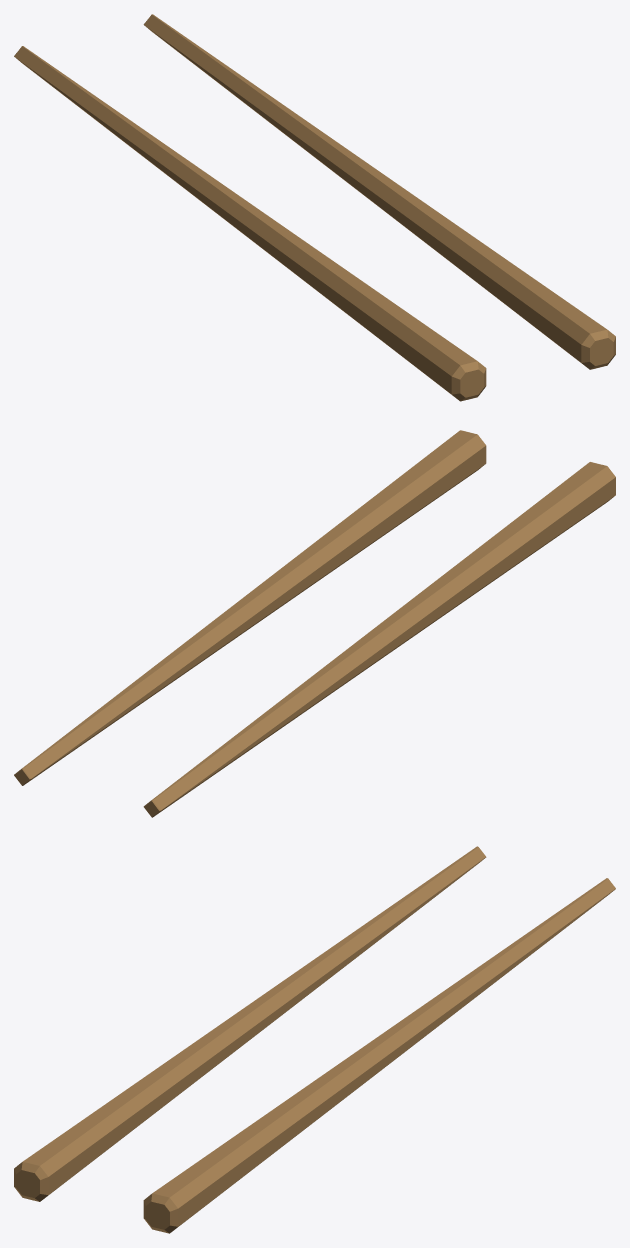
Rendered from AsianSticks_1.fbx.
3 views of the same model, one above another, from view 1: azimuth 30°, elevation 25°; view 2: azimuth 150°, elevation 25°; view 3: azimuth 330°, elevation 25° (orthographic).
Parts seen in each view (by area): view 1: AsianSticks_1; view 2: AsianSticks_1; view 3: AsianSticks_1.
Boxes of the visible parts, x1,y1,x2,y2 form: AsianSticks_1: [14, 14, 615, 401]; AsianSticks_1: [14, 430, 615, 817]; AsianSticks_1: [14, 846, 615, 1233].
Size of the model in its own units: 9.48 by 1.99 by 45.02.
